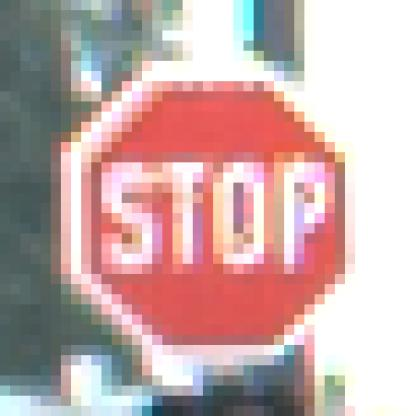Stop: (70, 69, 350, 363)
